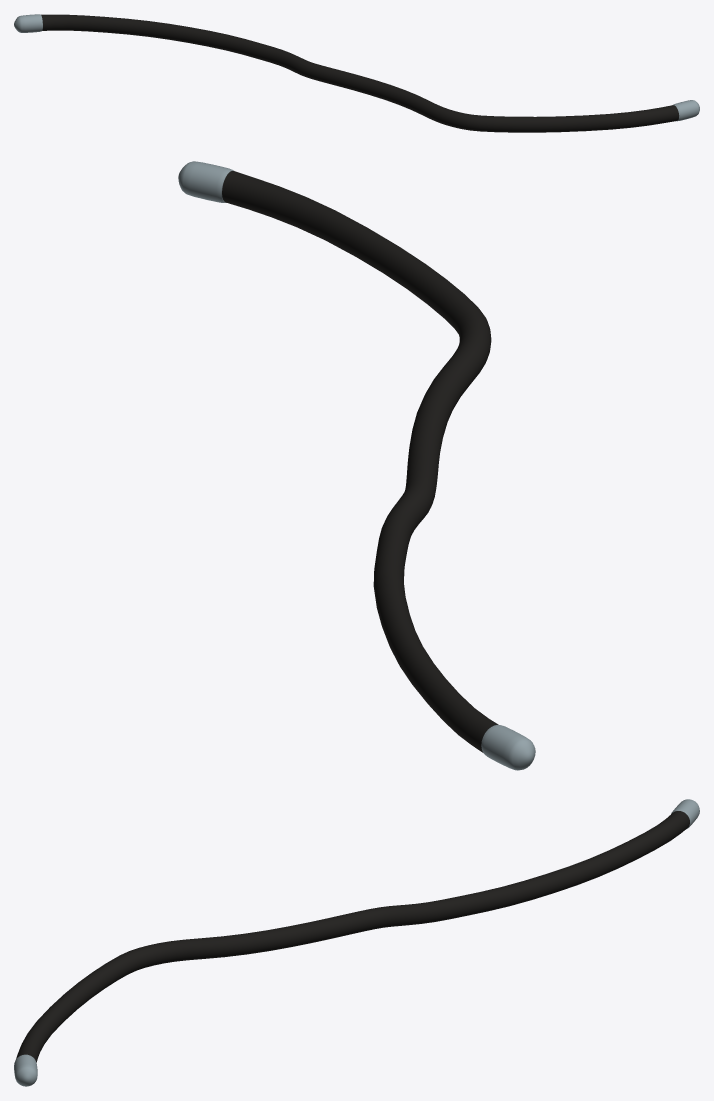
File: lisse01_01.fbx
The picture shows the model from 3 angles, top to bottom: view 1: azimuth 30°, elevation 25°; view 2: azimuth 150°, elevation 25°; view 3: azimuth 270°, elevation 25°; orthographic projection. The views are drawn at different scales.
Visible parts, largest first — view 1: pCylinder1; view 2: pCylinder1; view 3: pCylinder1.
Part boxes in pixels (left/top/right/bottom): pCylinder1: left=14, top=14, right=699, bottom=132; pCylinder1: left=178, top=161, right=535, bottom=770; pCylinder1: left=14, top=799, right=699, bottom=1086.
Size of the model in its own units: 12.36 by 0.447 by 13.07.
